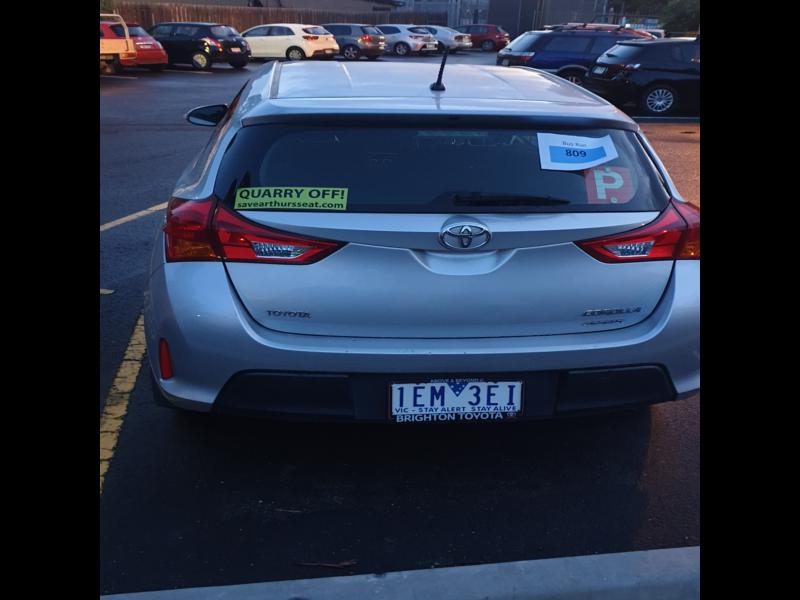BusRun: (548, 144, 607, 163)
PlateNo: (392, 382, 522, 411)
